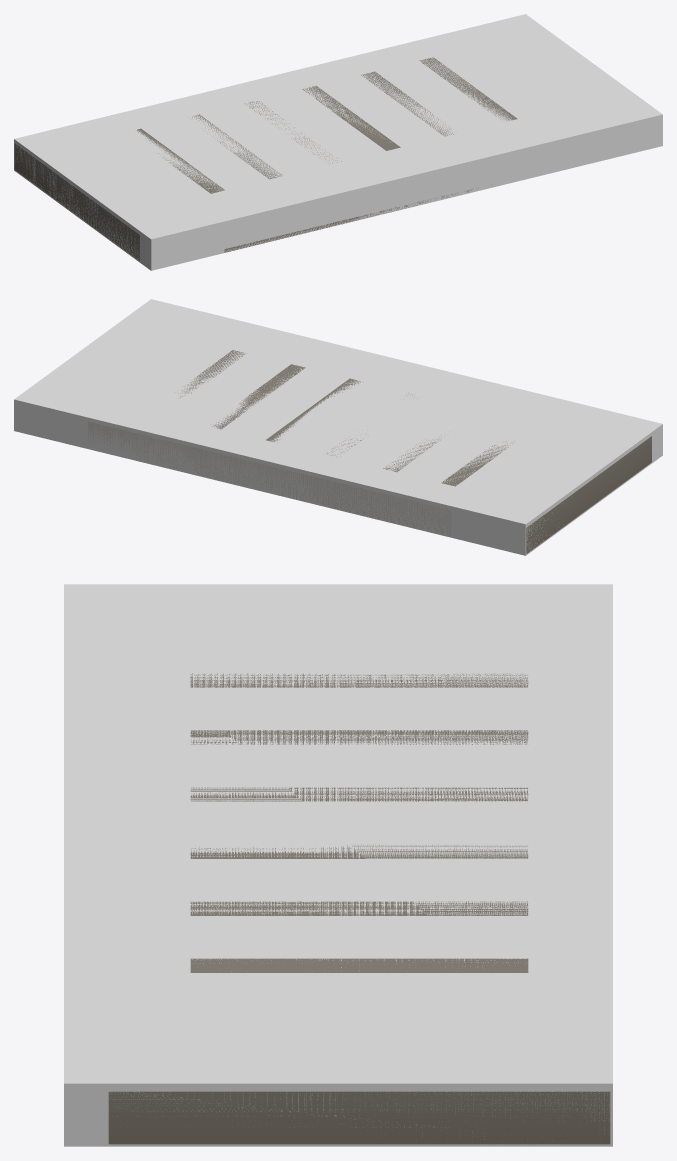
File: KIT_SF_KerbRamp_Green_A.glb
3 views of the same model, one above another, from view 1: azimuth 30°, elevation 25°; view 2: azimuth 150°, elevation 25°; view 3: azimuth 270°, elevation 25° (orthographic). The views are drawn at different scales.
Visible parts, largest first — view 1: KIT_SF_KerbRamp_Green_A_COL, KIT_SF_KerbRamp_Green_A; view 2: KIT_SF_KerbRamp_Green_A_COL, KIT_SF_KerbRamp_Green_A; view 3: KIT_SF_KerbRamp_Green_A_COL, KIT_SF_KerbRamp_Green_A.
Part boxes in pixels (x1,y1,x2,y2): KIT_SF_KerbRamp_Green_A_COL: [14, 14, 662, 270]; KIT_SF_KerbRamp_Green_A: [14, 57, 517, 260]; KIT_SF_KerbRamp_Green_A_COL: [14, 299, 662, 555]; KIT_SF_KerbRamp_Green_A: [88, 350, 651, 553]; KIT_SF_KerbRamp_Green_A_COL: [64, 584, 612, 1146]; KIT_SF_KerbRamp_Green_A: [108, 673, 610, 1144].
Size of what is drawn, in the model's own units: 2.8 by 0.165 by 1.3.
